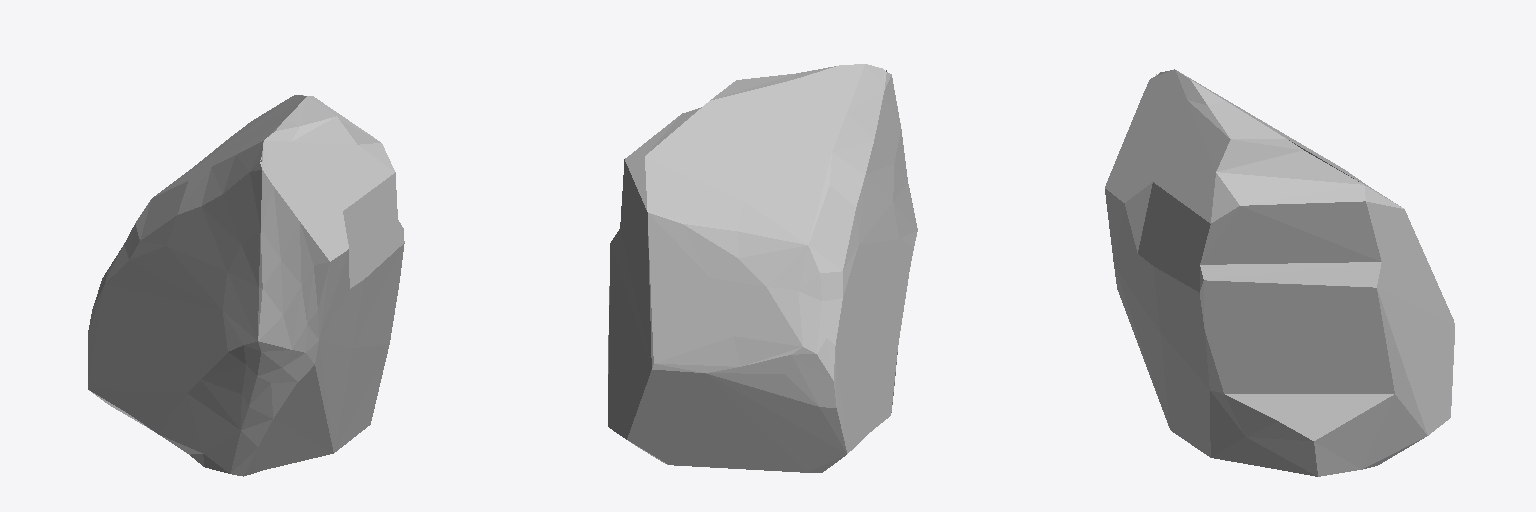
Rendered from sm_rock4.OBJ.
3 views of the same model, side by side, from view 1: azimuth 30°, elevation 25°; view 2: azimuth 150°, elevation 25°; view 3: azimuth 270°, elevation 25° (orthographic).
Parts seen in each view (by area): view 1: ZBrushPolyMesh3D; view 2: ZBrushPolyMesh3D; view 3: ZBrushPolyMesh3D.
Boxes of the visible parts, box(x1,y1,x2,y2) form: ZBrushPolyMesh3D: box(88, 95, 404, 476); ZBrushPolyMesh3D: box(608, 64, 917, 472); ZBrushPolyMesh3D: box(1105, 69, 1454, 476).
Size of the model in its own units: 0.9557 by 1.21 by 1.17.